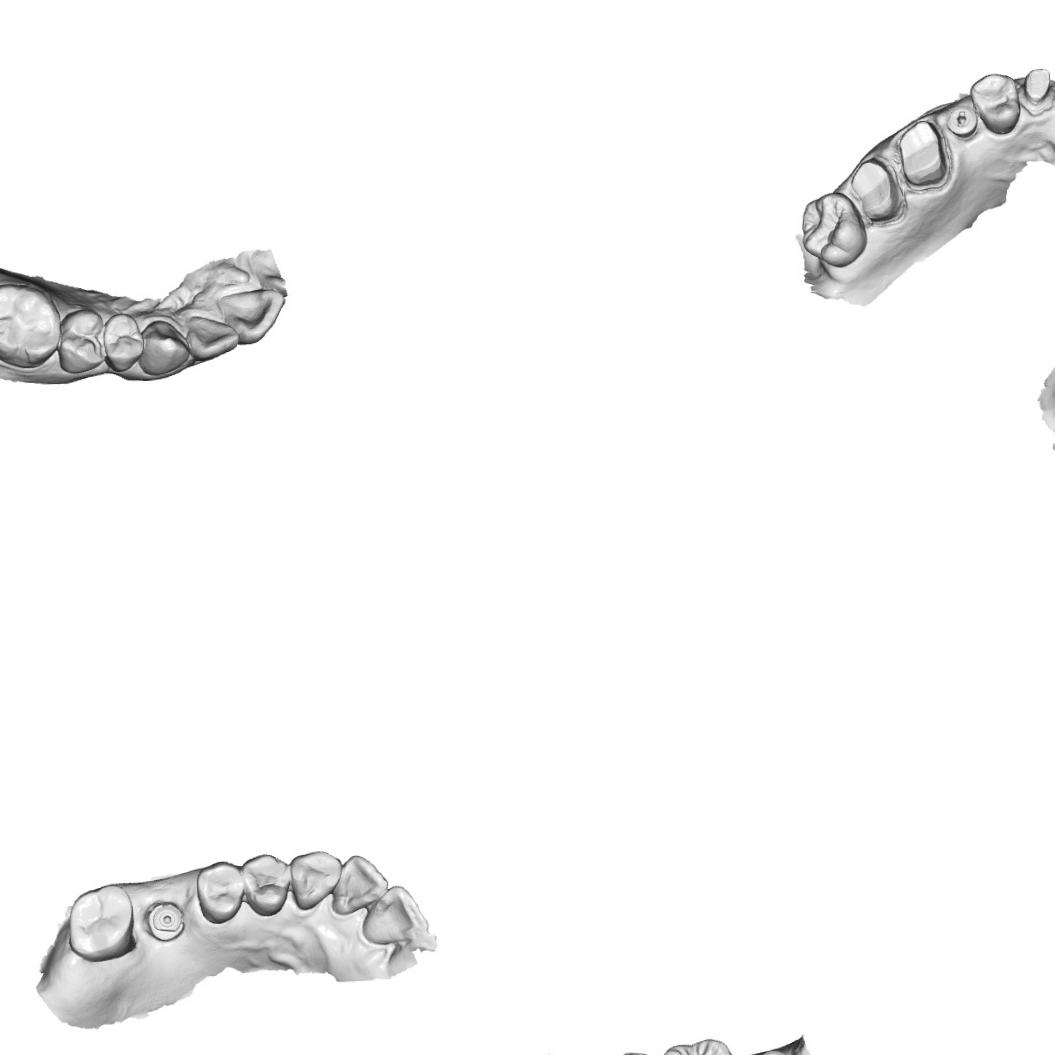canine: (288, 848, 346, 913), (138, 318, 191, 376)
crown: (895, 116, 950, 190), (848, 156, 903, 224), (1020, 62, 1055, 109)
implant: (145, 898, 187, 941), (753, 1047, 792, 1055)
implant_minus: (944, 104, 978, 140)
incisor: (357, 881, 432, 947), (216, 287, 288, 346), (329, 853, 391, 918), (184, 312, 242, 362)
molar: (63, 881, 136, 964), (0, 279, 64, 370), (798, 190, 868, 270), (655, 1036, 742, 1055)
premolar: (968, 66, 1024, 138), (238, 851, 296, 919), (194, 858, 247, 926), (56, 307, 106, 375), (102, 311, 146, 374)
